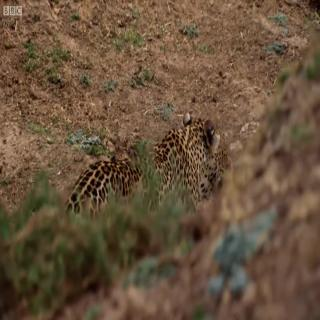Leopard: (70, 98, 235, 218)
